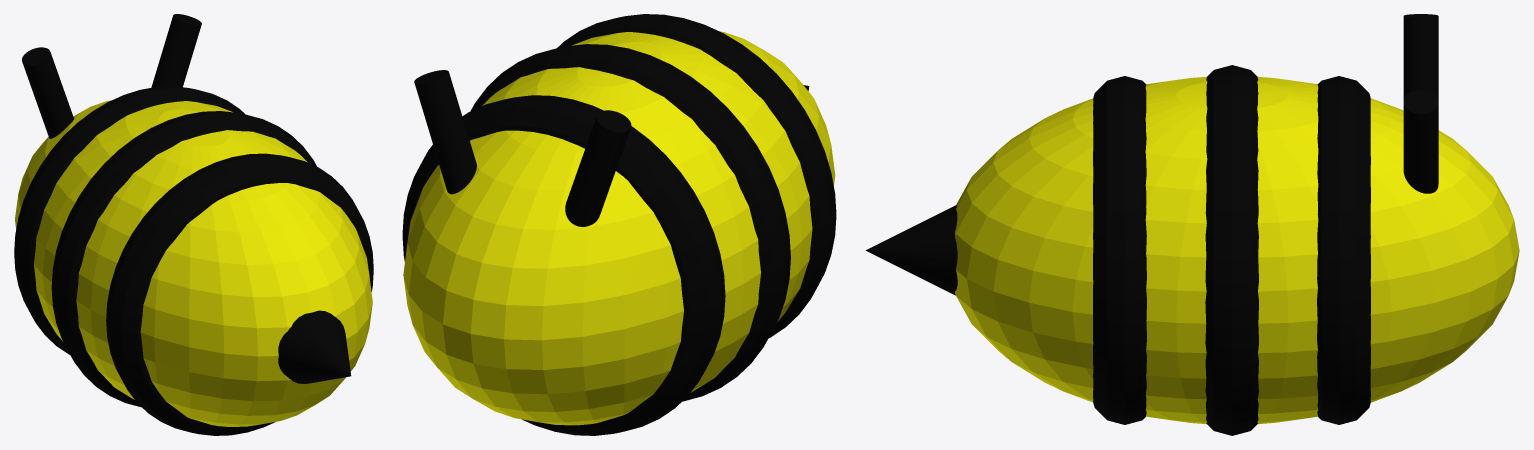
The model's file is bee.glb.
The picture shows the model from 3 angles, left to right: view 1: azimuth 30°, elevation 25°; view 2: azimuth 150°, elevation 25°; view 3: azimuth 270°, elevation 25°; orthographic projection. The views are drawn at different scales.
Parts seen in each view (by area): view 1: Sphere, Torus.001, Torus, Torus.002, Cone, Cylinder, Cylinder.001; view 2: Sphere, Torus.002, Torus, Torus.001, Cylinder.001, Cylinder; view 3: Sphere, Torus, Torus.001, Torus.002, Cone, Cylinder.001, Cylinder.
Part boxes in pixels (x1,y1,x2,y2): Sphere: (15, 100, 372, 426); Torus.001: (106, 153, 373, 435); Torus: (51, 111, 316, 407); Torus.002: (14, 86, 245, 354); Cone: (278, 310, 351, 383); Cylinder: (22, 47, 73, 138); Cylinder.001: (151, 14, 201, 87); Sphere: (403, 31, 835, 425); Torus.002: (402, 95, 725, 435); Torus: (471, 44, 790, 401); Torus.001: (557, 14, 836, 338); Cylinder.001: (414, 70, 476, 194); Cylinder: (565, 110, 631, 226); Sphere: (955, 76, 1519, 424); Torus: (1205, 65, 1258, 435); Torus.001: (1093, 76, 1146, 424); Torus.002: (1317, 76, 1370, 424); Cone: (865, 205, 957, 295); Cylinder.001: (1403, 90, 1438, 193); Cylinder: (1403, 14, 1438, 101).
Size of the model in its own units: 2.13 by 2.3 by 3.74.
